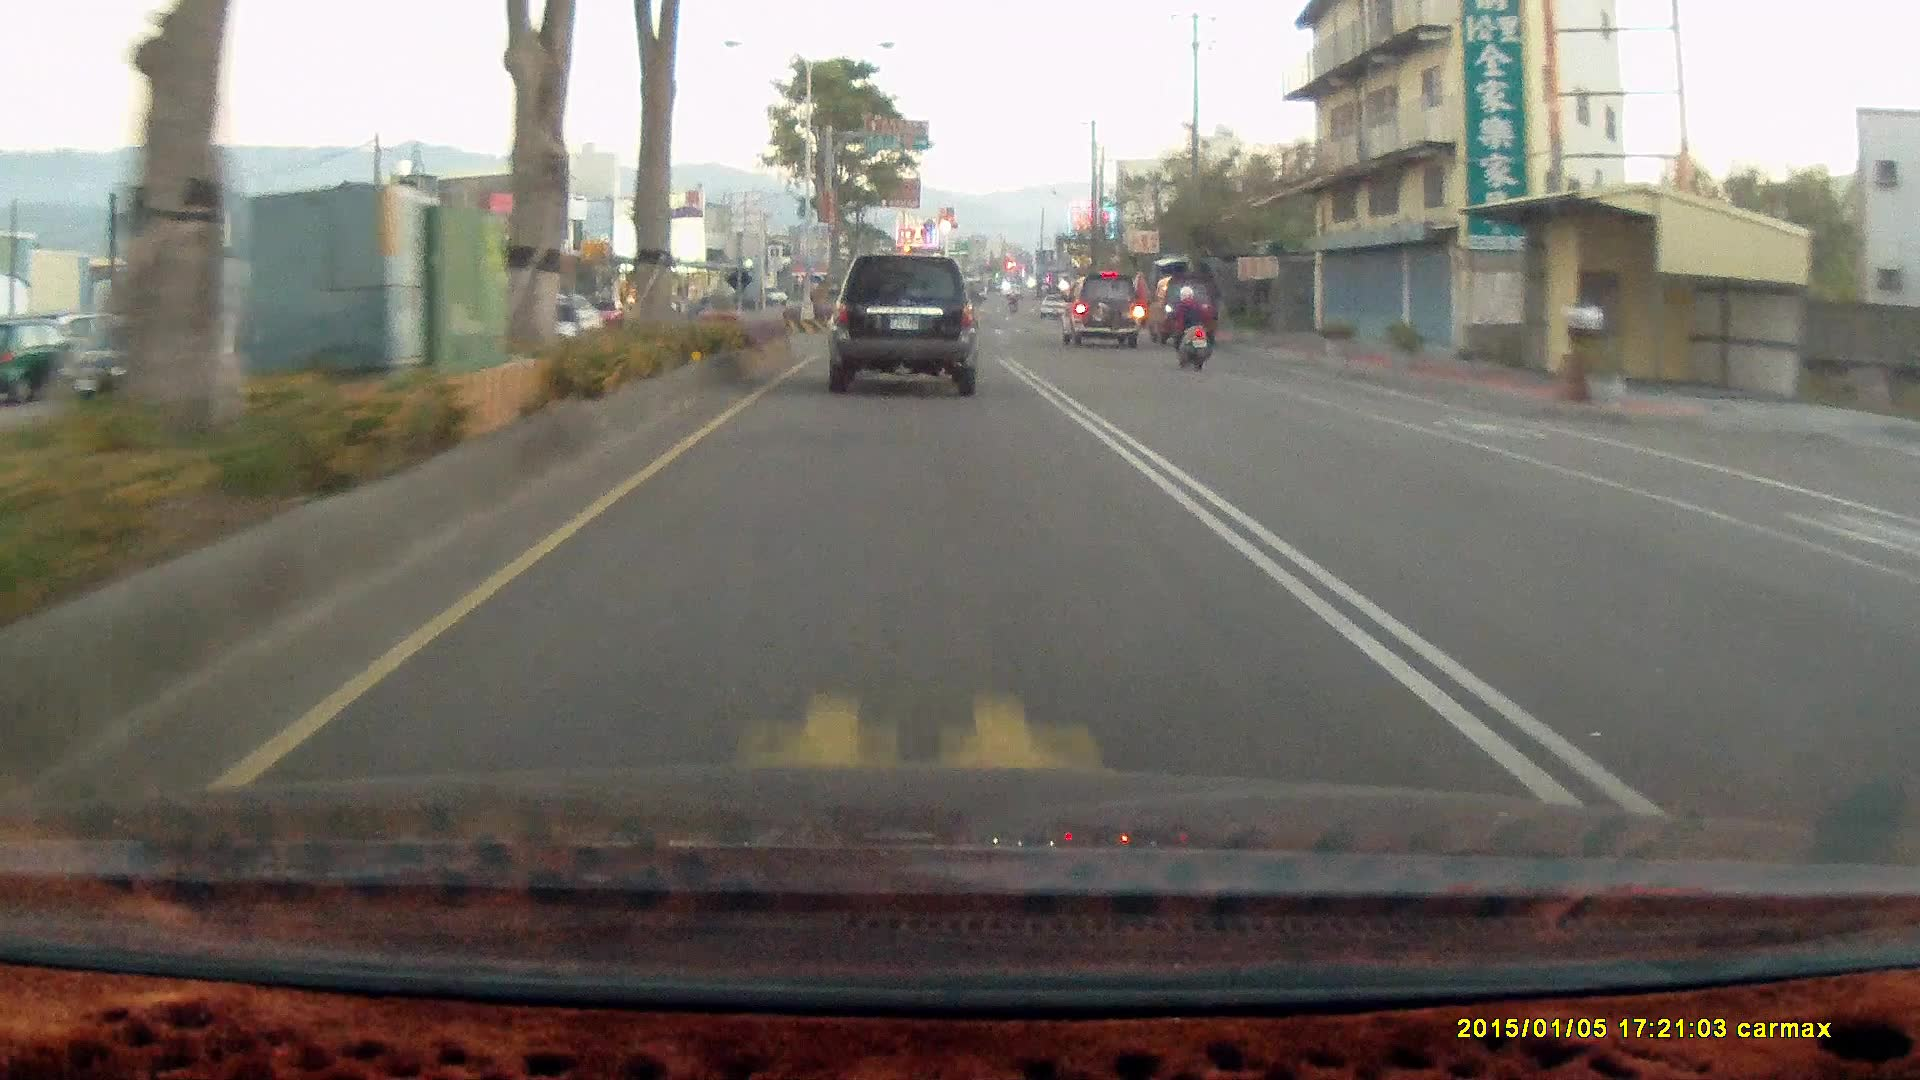rider: (1156, 278, 1224, 382), (1159, 288, 1209, 376)
vehicle: (829, 254, 987, 396), (826, 254, 980, 395), (58, 320, 235, 409), (1066, 277, 1152, 352), (1056, 276, 1142, 350), (1150, 277, 1222, 354), (1148, 276, 1219, 347)
